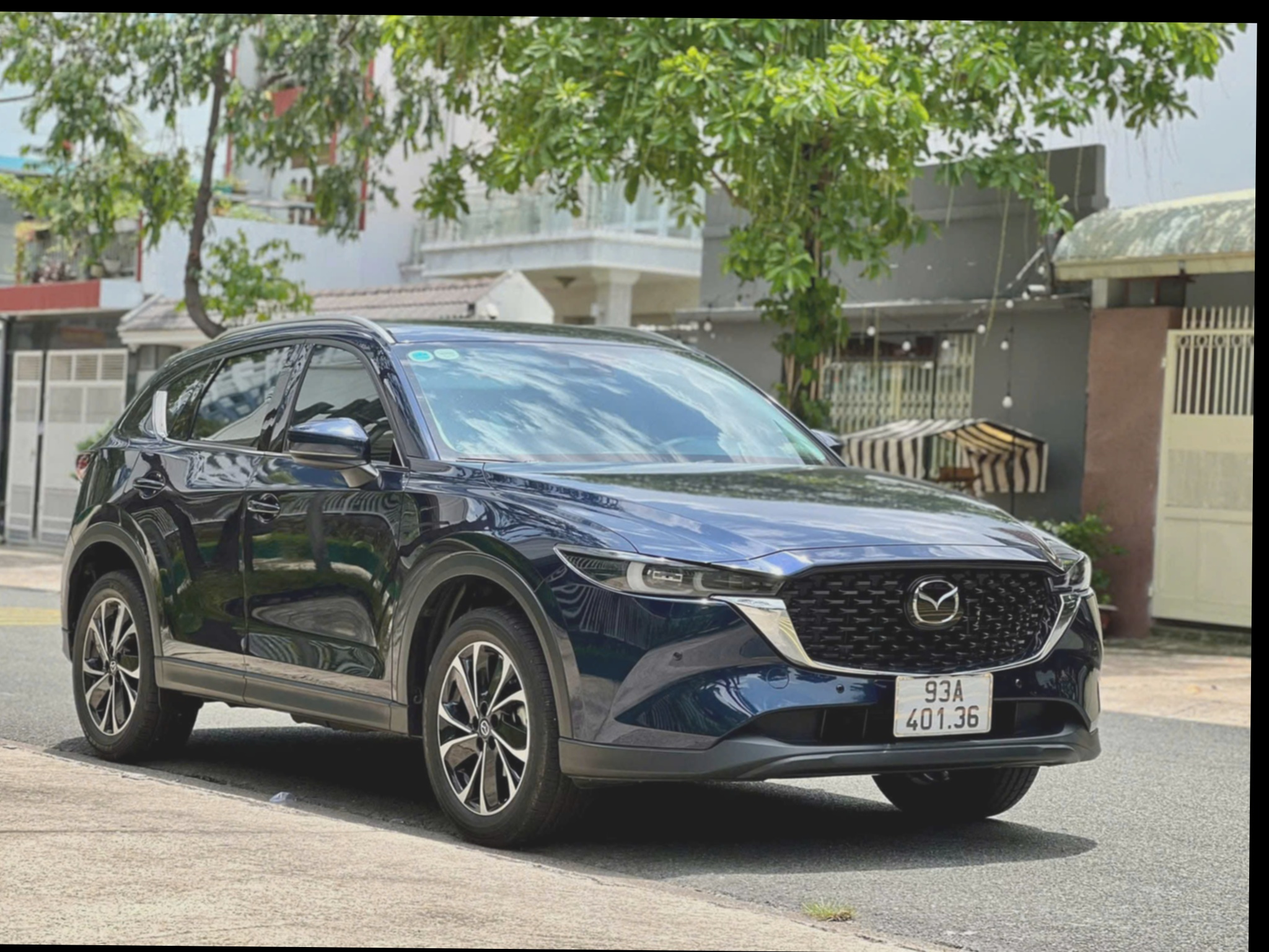Bien-so: (893, 672, 996, 737)
